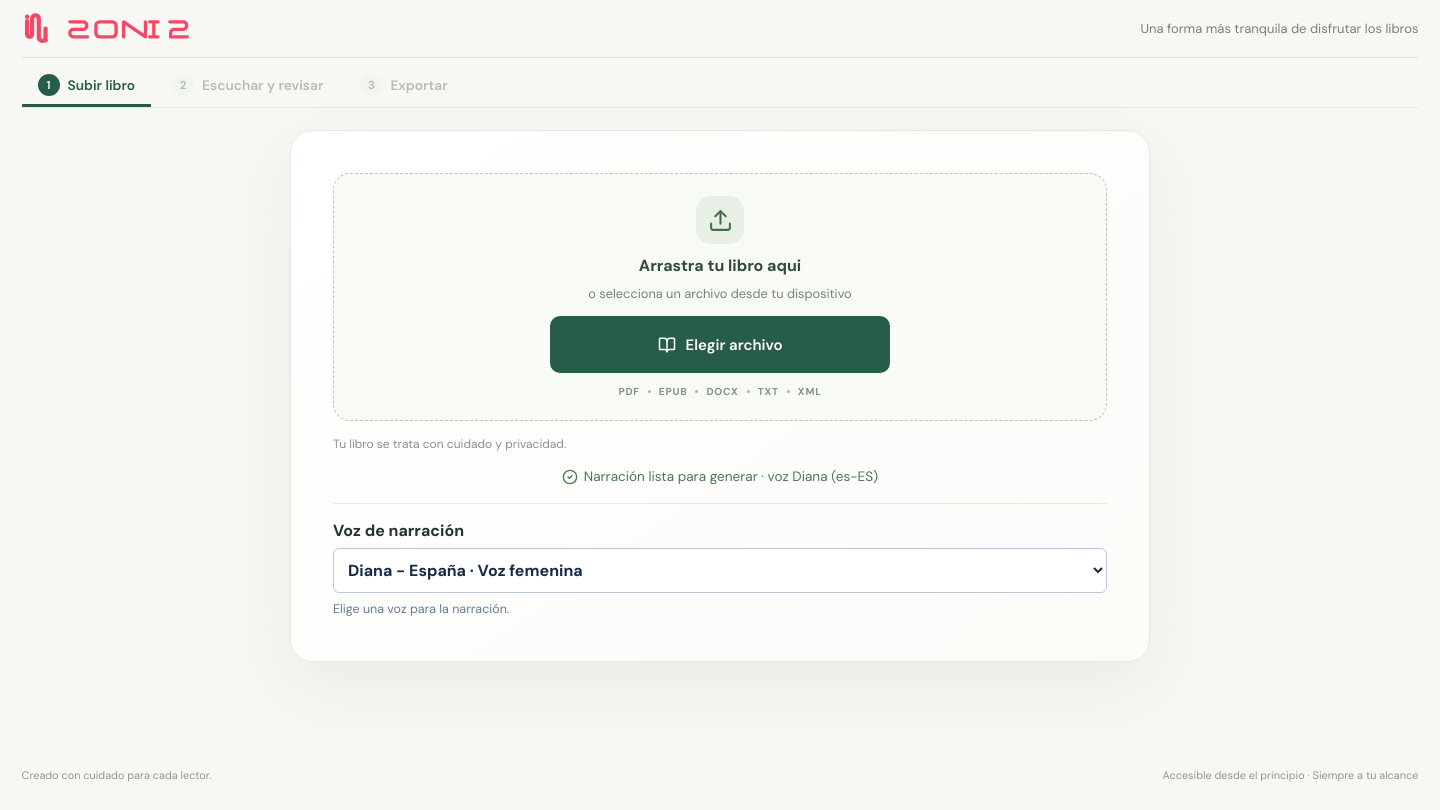
Test: narration voice and provider status › warns when a Latin American voice is chosen for a Spain Spanish book
Expected: the text "no español de España" is not shown
Select "Sirio - México" in the dropdown labelled "Voz de narración Elige una voz para la narración.": (720,570) [333, 548, 1107, 593]
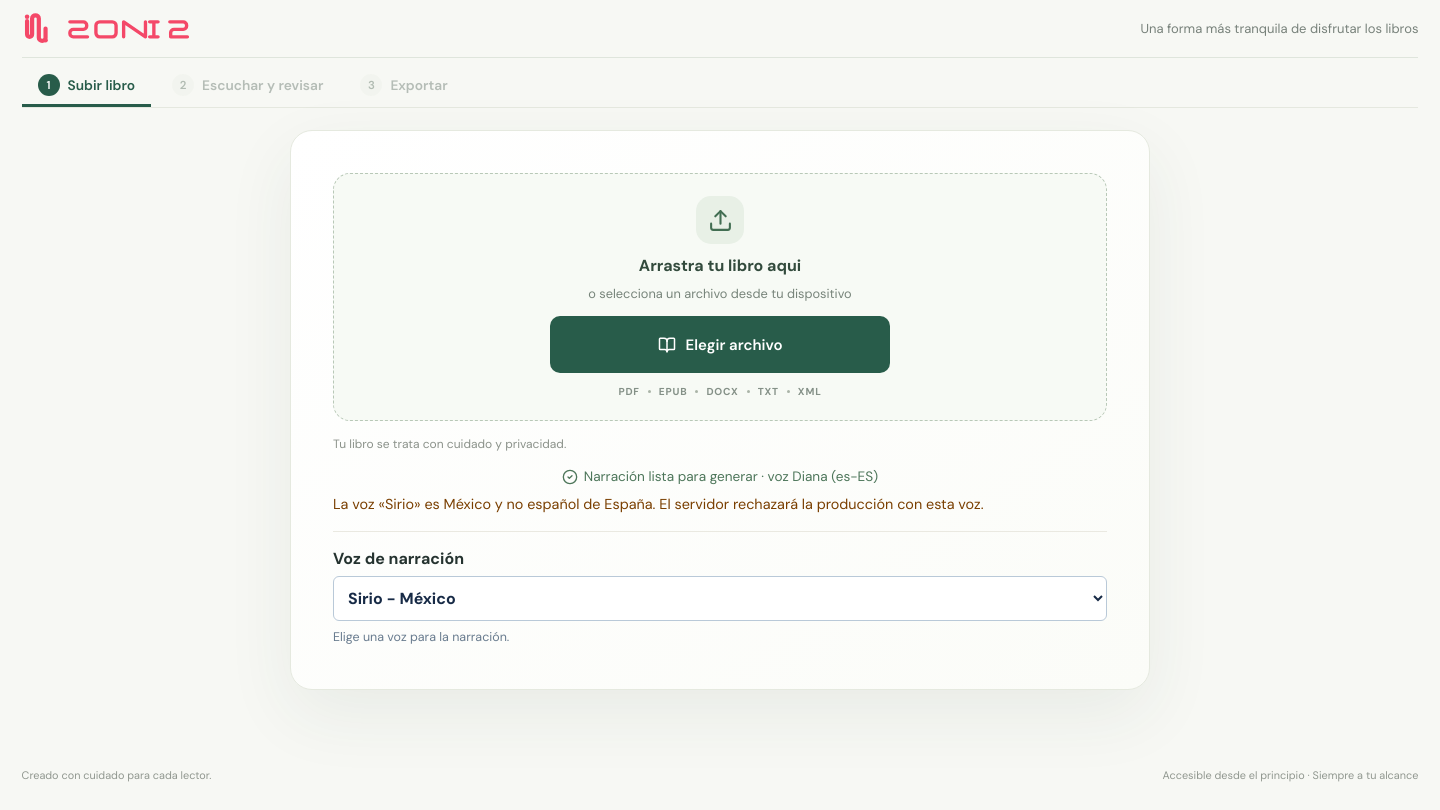
Expected: the text "no español de España" is shown, [491, 495, 655, 513]
Expected: the text "rechazará la producción" is shown, [655, 495, 984, 513]
